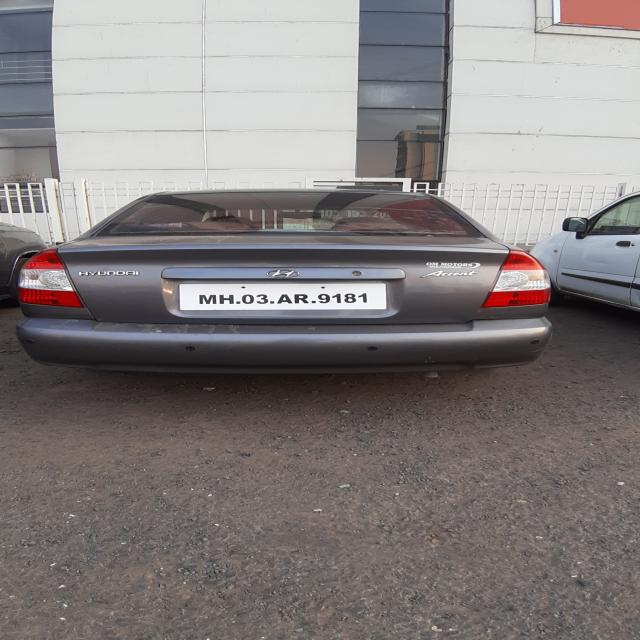Number-Plate: (183, 286, 383, 308)
